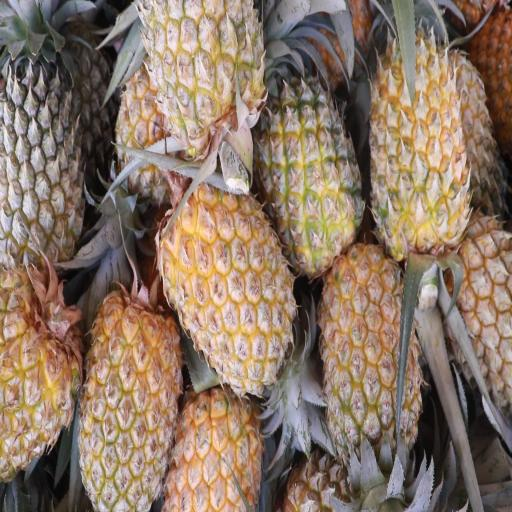------------------------------: (258, 56, 369, 285), (136, 2, 270, 174)
Pineapple - v8 v1: (154, 151, 300, 406), (316, 234, 424, 508), (368, 4, 474, 280), (79, 284, 185, 512), (0, 260, 89, 486), (162, 355, 264, 512), (447, 213, 512, 426)
